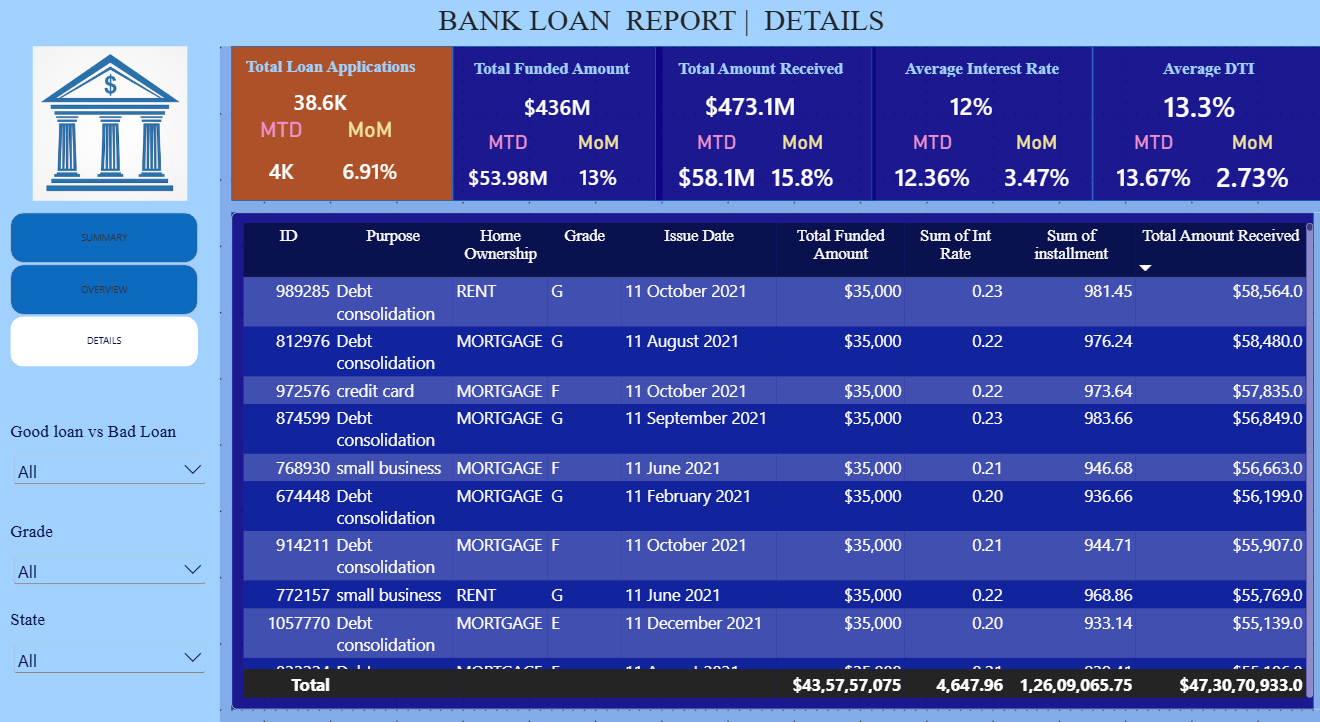

What the dashboard file says about the page in this screenshot:
{"tool":"powerbi","page":{"name":"DETAILS","canvas":[1920,1080],"ordinal":2},"visuals":[{"type":"shape","box":[0,88,320,992],"z":0},{"type":"shape","box":[336,96,320,224],"z":0,"group":"g1"},{"type":"shape","box":[656,96,304,224],"z":0,"group":"g6"},{"type":"shape","box":[951.6,96,320,224],"z":0,"group":"g3"},{"type":"shape","box":[1264,96,320,224],"z":0,"group":"g4"},{"type":"shape","box":[1584,96,336,224],"z":0,"group":"g5"},{"type":"shape","box":[0,0,1920,96],"z":1000},{"type":"textbox","box":[624,113.2,352,34.5],"z":1000,"group":"g6"},{"type":"cardVisual","fields":{"Data":["bank_loan_data.Total Loan Applications"]},"box":[350.5,127.8,228.6,95.4],"z":1000,"group":"g1"},{"type":"cardVisual","fields":{"Data":["bank_loan_data.Total Aount Received"]},"box":[974.5,130.5,228.6,103.4],"z":1000,"group":"g3"},{"type":"cardVisual","fields":{"Data":["bank_loan_data.Average Interest Rate"]},"box":[1294.5,130.5,228.6,103.4],"z":1000,"group":"g4"},{"type":"cardVisual","fields":{"Data":["bank_loan_data.Average DTI"]},"box":[1616,130.5,240,103.4],"z":1000,"group":"g5"},{"type":"textbox","box":[0,32,1920,64],"z":2000},{"type":"textbox","box":[320,111.9,320,31.8],"z":2000,"group":"g1"},{"type":"textbox","box":[944,113.2,320,34.5],"z":2000,"group":"g3"},{"type":"textbox","box":[1264,113.2,320,34.5],"z":2000,"group":"g4"},{"type":"textbox","box":[1584,113.2,336,34.5],"z":2000,"group":"g5"},{"type":"cardVisual","title":"MoM","fields":{"Data":["bank_loan_data.MoM Total Funded Amount"]},"box":[791.6,216.6,150.9,86.2],"z":2000,"group":"g6"},{"type":"group","id":"g1","title":"Group 1","box":[320,96,336,224],"z":3000},{"type":"cardVisual","fields":{"Data":["bank_loan_data.Total Funded Amount"]},"box":[720,147.7,176,68.9],"z":3000,"group":"g6"},{"type":"cardVisual","title":"MTD","fields":{"Data":["bank_loan_data.MTD Loan Applications"]},"box":[336,199.4,144,103.4],"z":3000,"group":"g1"},{"type":"cardVisual","title":"MTD","fields":{"Data":["bank_loan_data.MTD Total Amount Received"]},"box":[960,216.6,160,86.2],"z":3000,"group":"g3"},{"type":"cardVisual","title":"MTD","fields":{"Data":["bank_loan_data.MTD Average Interest Rate"]},"box":[1280,216.6,144,86.2],"z":3000,"group":"g4"},{"type":"cardVisual","title":"MTD","fields":{"Data":["bank_loan_data.MTD Average DTI"]},"box":[1600,216.6,144,86.2],"z":3000,"group":"g5"},{"type":"group","id":"g2","title":"Group 1","box":[624,96,352,224],"z":4000},{"type":"cardVisual","title":"MoM","fields":{"Data":["bank_loan_data.MoM Loan Applications"]},"box":[464,199.4,144,103.4],"z":4000,"group":"g1"},{"type":"cardVisual","title":"MTD","fields":{"Data":["bank_loan_data.MTD Funded Amount"]},"box":[656,216.6,160,86.2],"z":4000,"group":"g6"},{"type":"cardVisual","title":"MoM","fields":{"Data":["bank_loan_data.Mom Loan Received"]},"box":[1096.4,216.6,137.1,86.2],"z":4000,"group":"g3"},{"type":"cardVisual","title":"MoM","fields":{"Data":["bank_loan_data.MoM Avg Int Rate"]},"box":[1424,216.6,160,86.2],"z":4000,"group":"g4"},{"type":"cardVisual","title":"MoM","fields":{"Data":["bank_loan_data.MoM Average DTI"]},"box":[1744,216.6,144,86.2],"z":4000,"group":"g5"},{"type":"shape","box":[336,336,1568,720],"z":5000},{"type":"group","id":"g3","title":"Group 1","box":[944,96,320,224],"z":6000},{"type":"group","id":"g4","title":"Group 1","box":[1264,96,320,224],"z":7000},{"type":"group","id":"g5","title":"Group 1","box":[1584,96,336,224],"z":8000},{"type":"slicer","title":"Good loan vs Bad Loan","fields":{"Values":["bank_loan_data.Good vs Bad Loan"]},"box":[16,640,288,96],"z":9000},{"type":"slicer","title":"Grade","fields":{"Values":["bank_loan_data.grade"]},"box":[16,784,288,96],"z":10000},{"type":"slicer","title":"State","fields":{"Values":["bank_loan_data.address_state"]},"box":[16,912,288,112],"z":11000},{"type":"group","id":"g6","title":"Group 2","box":[624,96,352,224],"z":11001,"group":"g2"},{"type":"tableEx","fields":{"Values":["bank_loan_data.id","bank_loan_data.purpose","bank_loan_data.home_ownership","bank_loan_data.grade","bank_loan_data.issue_date","bank_loan_data.Total Funded Amount","Sum(bank_loan_data.int_rate)","Sum(bank_loan_data.installment)","bank_loan_data.Total Amount Received"]},"box":[336,336,1584,720],"z":13000},{"type":"image","box":[48,96,224,224],"z":14000},{"type":"pageNavigator","box":[16,336,272,224],"z":15000}]}

Visuals, with their boxes in screenshot pixels (x1, y1, x2, y2), scaled from the page's 1920x1080 canvas onto the 1320x722 screenshot:
shape: 0,59,220,721
shape: 231,64,451,214
shape: 451,64,660,214
shape: 654,64,874,214
shape: 869,64,1089,214
shape: 1089,64,1319,214
shape: 0,0,1319,64
textbox: 429,76,671,99
cardVisual - bank_loan_data.Total Loan Applications: 241,85,398,149
cardVisual - bank_loan_data.Total Aount Received: 670,87,827,156
cardVisual - bank_loan_data.Average Interest Rate: 890,87,1047,156
cardVisual - bank_loan_data.Average DTI: 1111,87,1276,156
textbox: 0,21,1319,64
textbox: 220,75,440,96
textbox: 649,76,869,99
textbox: 869,76,1089,99
textbox: 1089,76,1319,99
"MoM" cardVisual: 544,145,648,202
"Group 1" group: 220,64,451,214
cardVisual - bank_loan_data.Total Funded Amount: 495,99,616,145
"MTD" cardVisual: 231,133,330,202
"MTD" cardVisual: 660,145,770,202
"MTD" cardVisual: 880,145,979,202
"MTD" cardVisual: 1100,145,1199,202
"Group 1" group: 429,64,671,214
"MoM" cardVisual: 319,133,418,202
"MTD" cardVisual: 451,145,561,202
"MoM" cardVisual: 754,145,848,202
"MoM" cardVisual: 979,145,1089,202
"MoM" cardVisual: 1199,145,1298,202
shape: 231,225,1309,706
"Group 1" group: 649,64,869,214
"Group 1" group: 869,64,1089,214
"Group 1" group: 1089,64,1319,214
"Good loan vs Bad Loan" slicer: 11,428,209,492
"Grade" slicer: 11,524,209,588
"State" slicer: 11,610,209,685
"Group 2" group: 429,64,671,214
tableEx - bank_loan_data.id x bank_loan_data.purpose: 231,225,1319,706
image: 33,64,187,214
pageNavigator: 11,225,198,374
